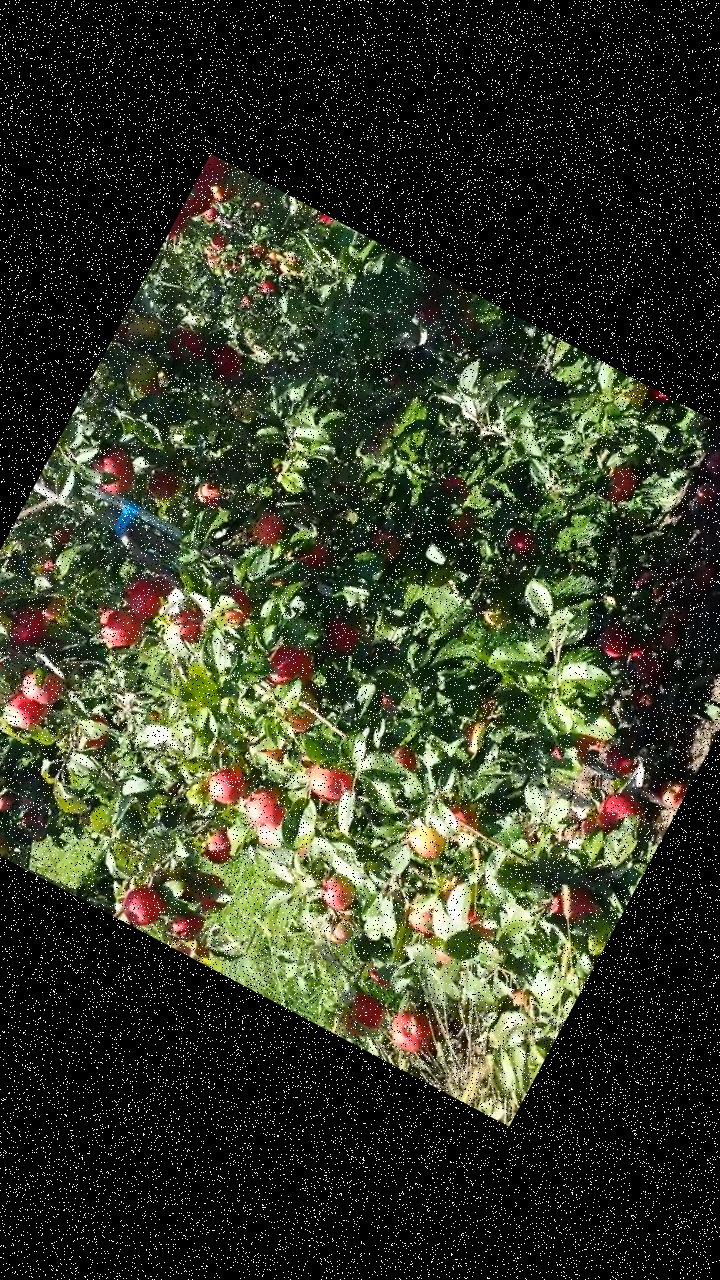Apple: (255, 628, 326, 702), (591, 780, 654, 846), (82, 438, 145, 499), (543, 876, 605, 936), (88, 598, 151, 657), (300, 751, 362, 810), (117, 877, 176, 937), (236, 774, 296, 832), (382, 1002, 441, 1060), (594, 454, 651, 513), (336, 986, 391, 1046), (0, 686, 56, 744), (113, 570, 168, 624), (16, 660, 74, 711), (202, 754, 254, 810), (400, 816, 454, 866), (32, 520, 77, 579), (185, 864, 236, 916), (278, 683, 327, 737), (318, 608, 368, 660), (212, 578, 260, 630), (3, 600, 52, 650), (314, 866, 363, 916), (362, 518, 410, 568), (121, 306, 169, 354), (200, 338, 248, 386), (162, 321, 211, 368), (140, 459, 188, 506), (439, 304, 486, 352), (396, 892, 444, 939), (548, 723, 595, 771), (194, 825, 241, 872), (441, 796, 488, 843), (76, 706, 121, 753), (247, 505, 292, 552), (170, 924, 220, 966), (120, 345, 165, 391), (179, 180, 222, 227), (164, 903, 208, 948), (384, 736, 428, 778), (454, 710, 495, 754), (167, 604, 209, 646), (318, 904, 360, 946), (594, 618, 636, 660), (459, 903, 502, 942), (440, 500, 479, 542), (248, 816, 291, 854), (500, 518, 540, 558), (294, 534, 334, 572), (196, 154, 232, 192), (192, 474, 228, 512), (504, 979, 539, 1016), (415, 286, 449, 324), (206, 174, 243, 208), (360, 962, 400, 992), (38, 588, 70, 624), (572, 806, 604, 840), (168, 204, 195, 242), (112, 308, 139, 346), (144, 568, 176, 600), (256, 734, 290, 764), (439, 469, 470, 498), (136, 374, 165, 402), (374, 690, 401, 716), (642, 385, 672, 407), (436, 876, 460, 902), (426, 944, 454, 966)
